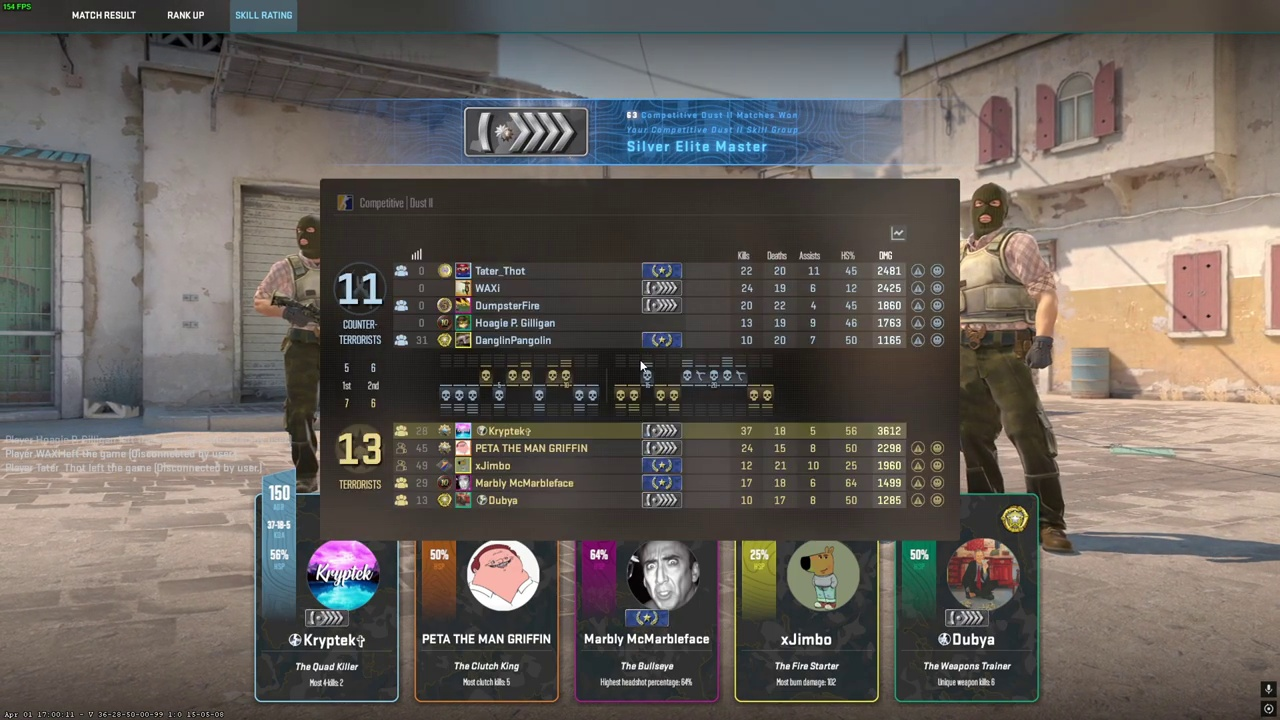Terrorist: (959, 183, 1064, 552), (267, 215, 322, 490)
